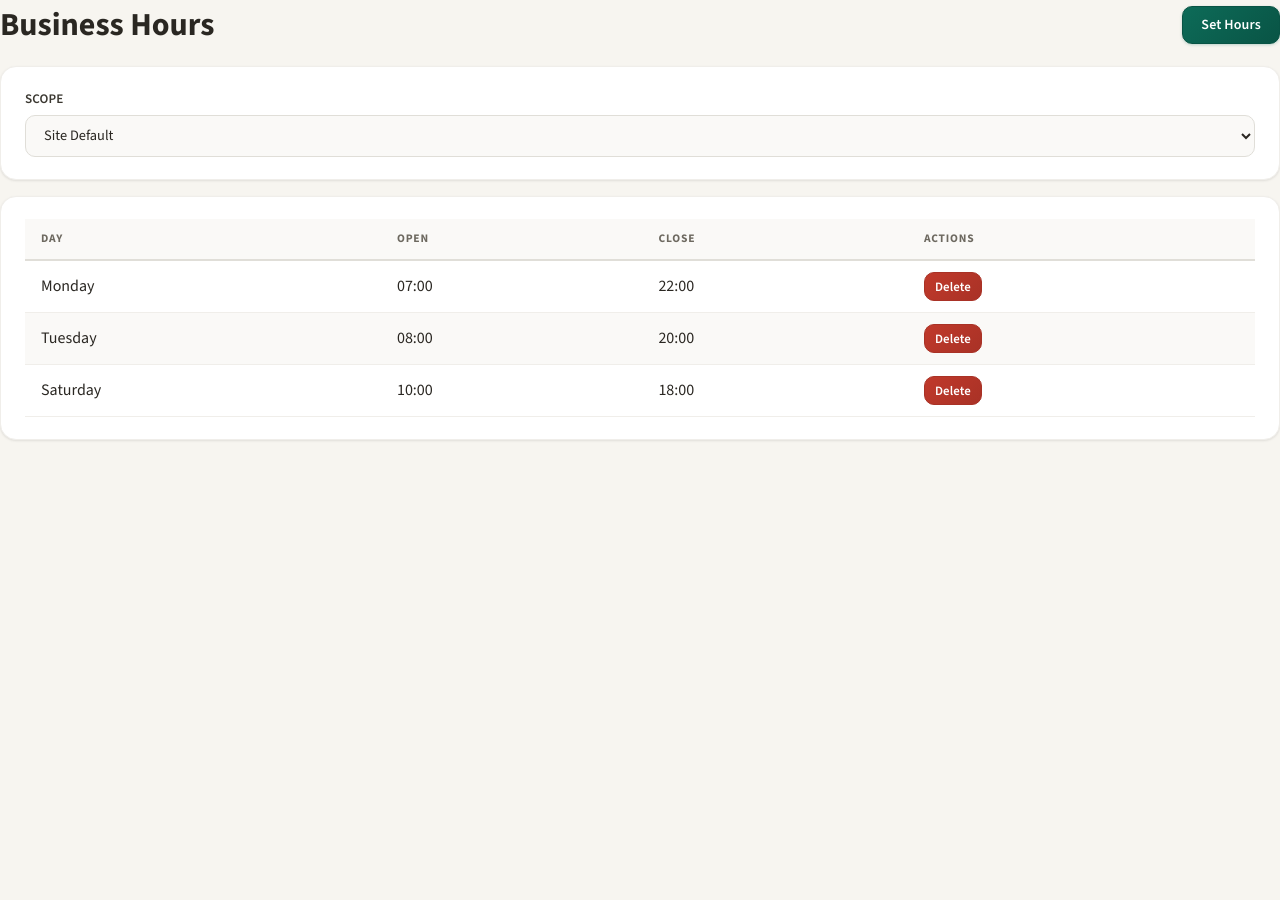
Test case: BusinessHoursPage › Set Hours modal › opens the Set Business Hours modal when button is clicked
Step 1. Click the button "Set Hours" → (1231, 25), box [1182,6,1279,44]
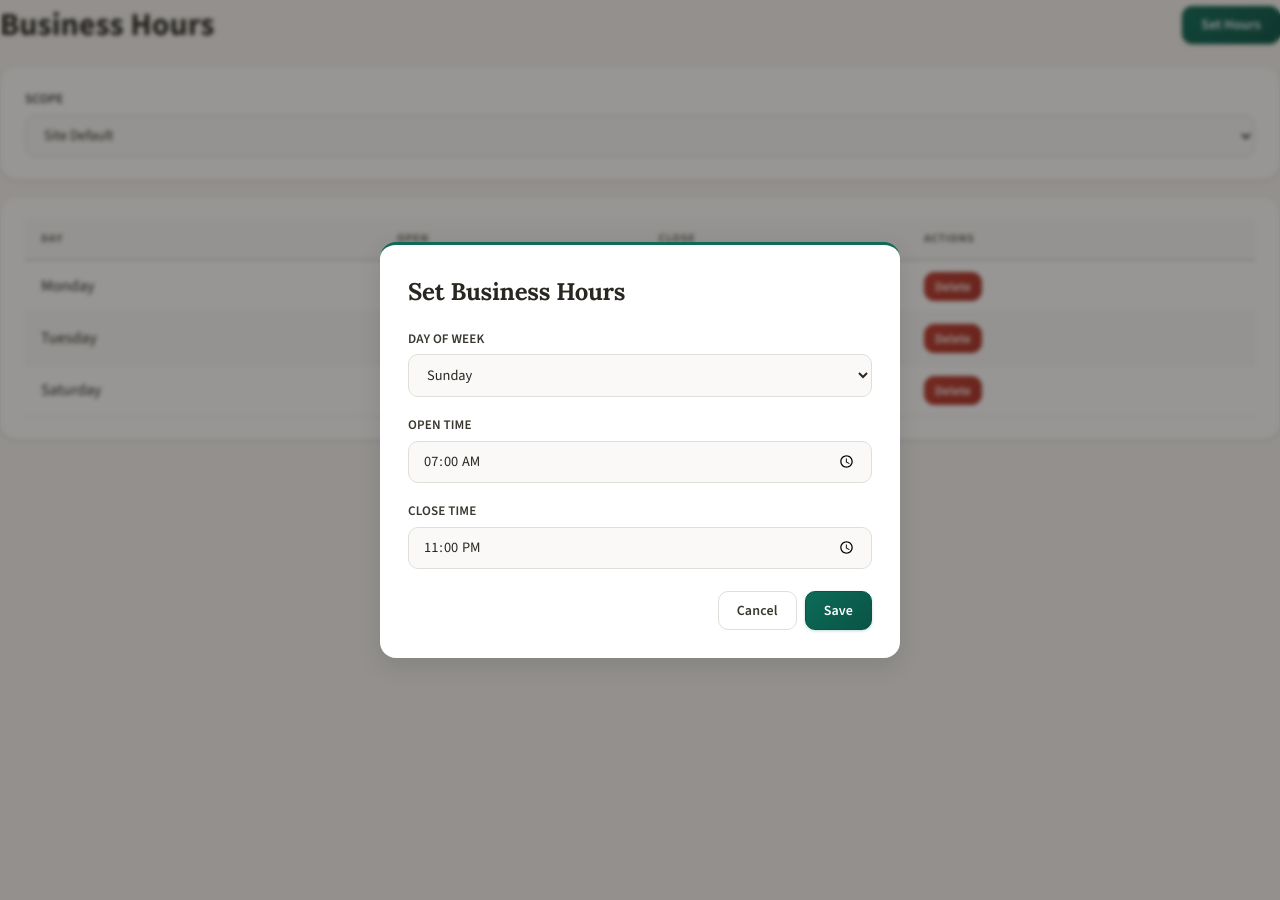
Check: the heading "Set Business Hours" is shown, box [408,276,625,307]
